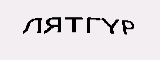Г: (84, 14, 101, 35)
Л: (21, 16, 43, 35)
Р: (119, 18, 136, 36)
Т: (64, 14, 83, 34)
Я: (41, 13, 65, 38)
Ү: (101, 15, 118, 35)
